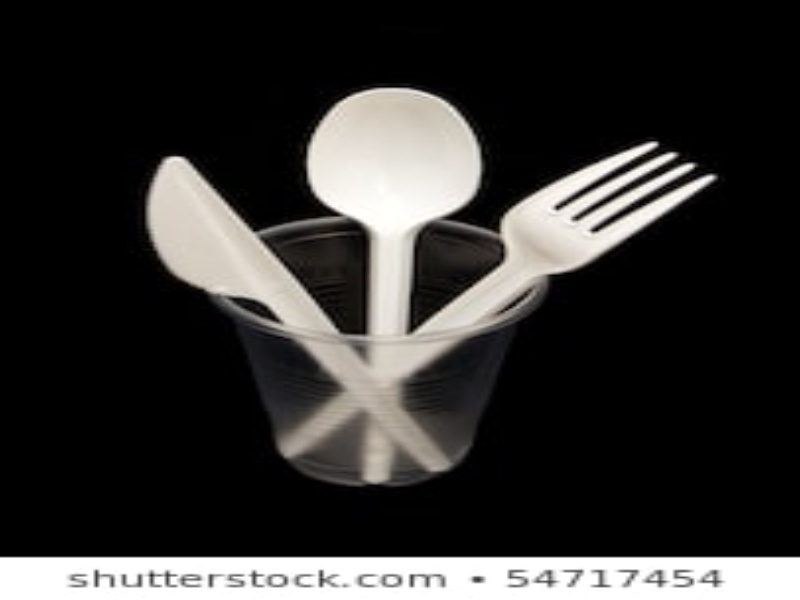plastic-cup: (200, 214, 553, 489)
plastic-silverware: (281, 135, 717, 465), (143, 150, 454, 476), (305, 80, 485, 489)
